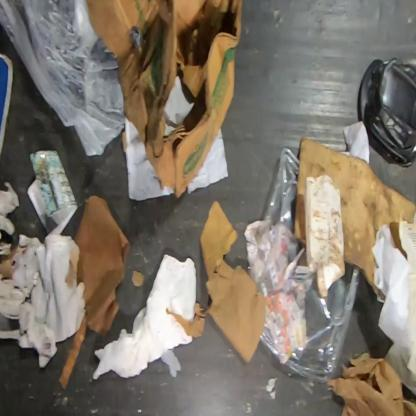cardboard: (85, 0, 244, 202), (0, 194, 130, 390), (294, 137, 415, 285), (166, 200, 266, 367), (0, 51, 15, 163)
rigid_plastic: (248, 147, 362, 386), (357, 56, 416, 169)
soft_plastic: (0, 0, 125, 158)
